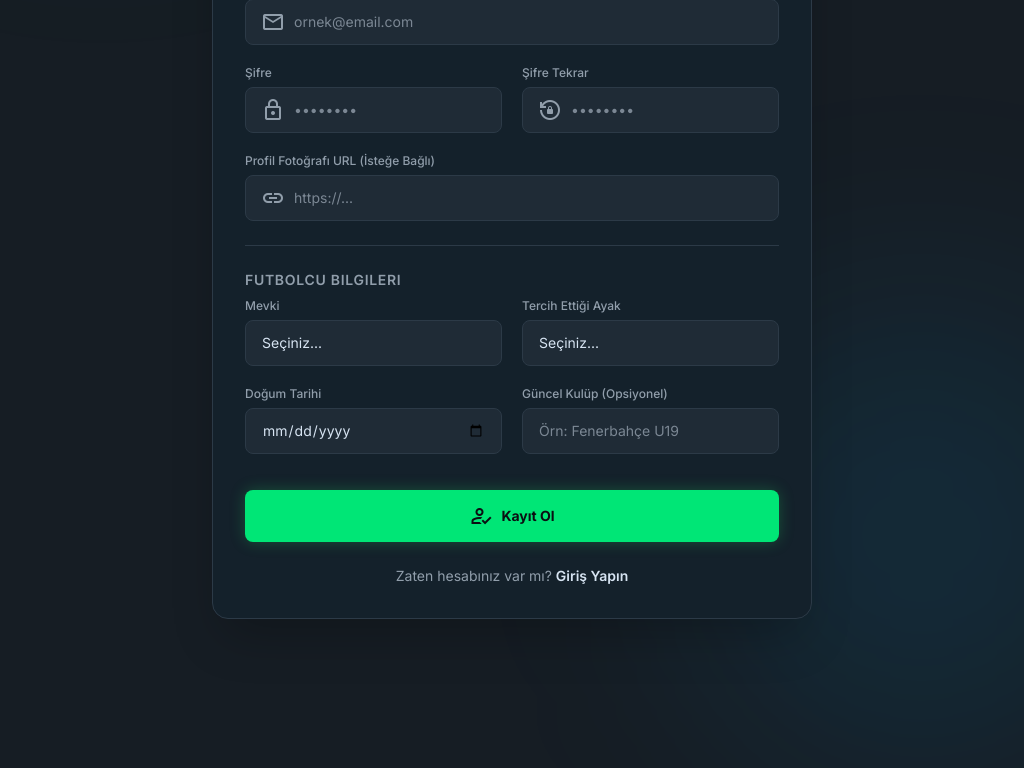
Scenario: RegisterPage › bos formda hata mesajlari gosterir ve yonlendirme yapmaz
(page scrolled)
What coordinates should you click on to do the following:
click the button "Kayıt Ol"
I would click on:
 (512, 516)
Its box is [245, 490, 779, 542].
(page scrolled)
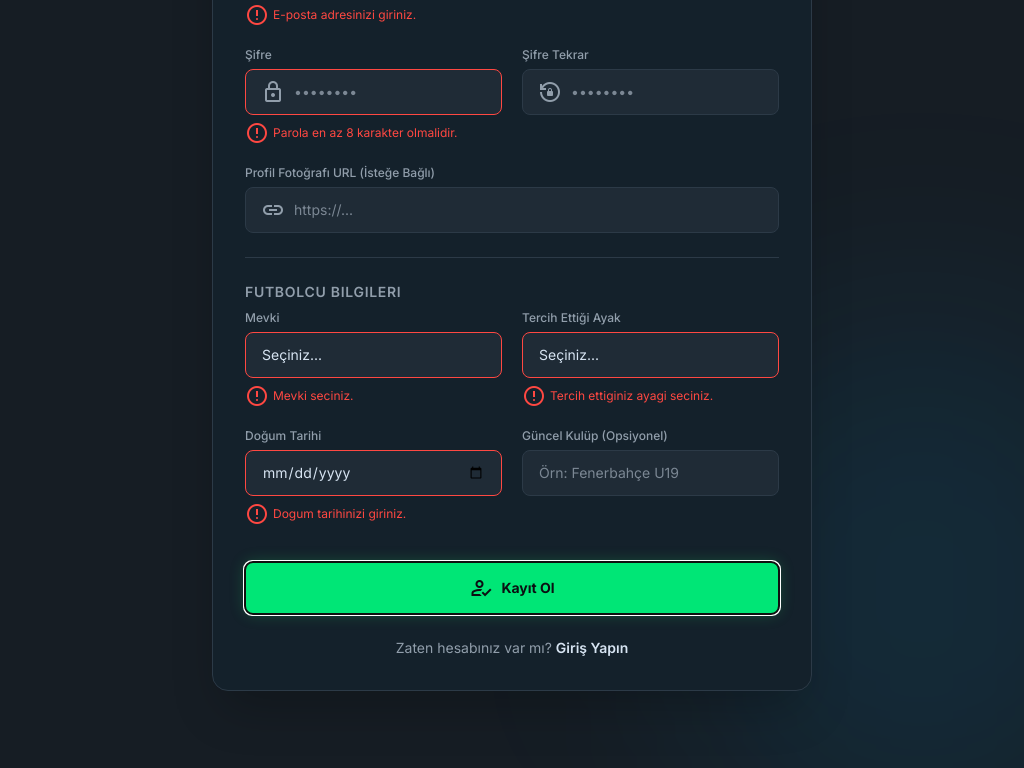
Check: the text "E-posta adresinizi giriniz." is shown, box [245, 1, 416, 29]
Check: the text "Mevki seciniz." is shown, box [245, 382, 354, 410]
